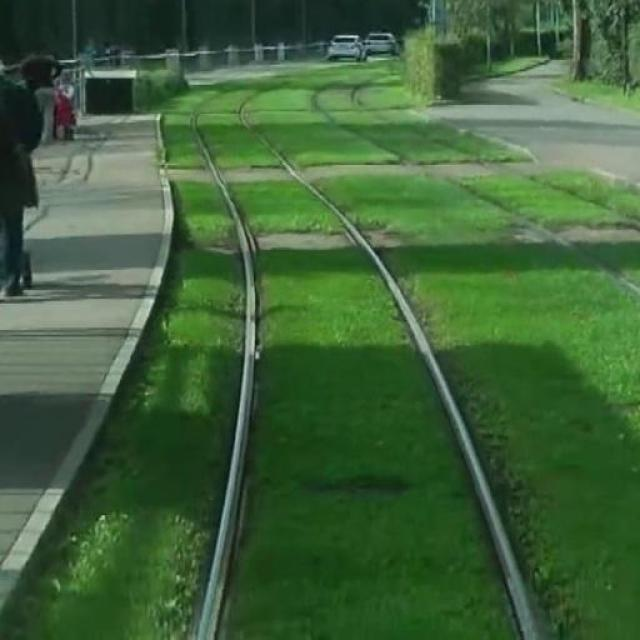vehicle: (362, 27, 410, 62), (322, 29, 368, 62)
